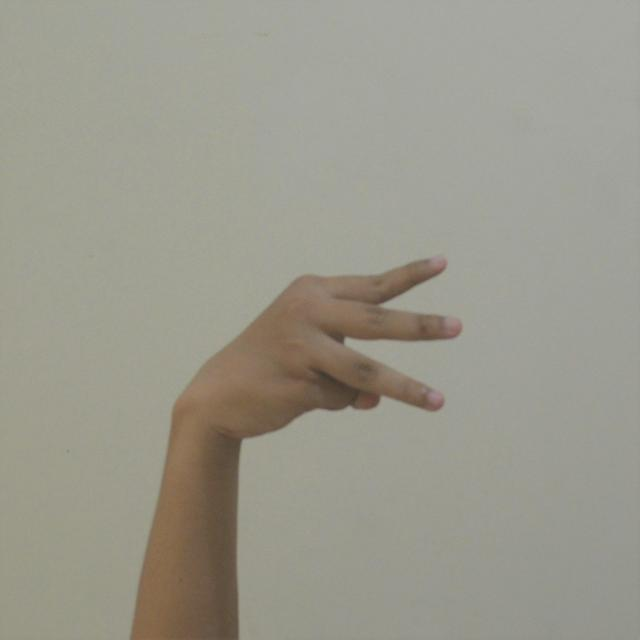E: (162, 252, 472, 449)
